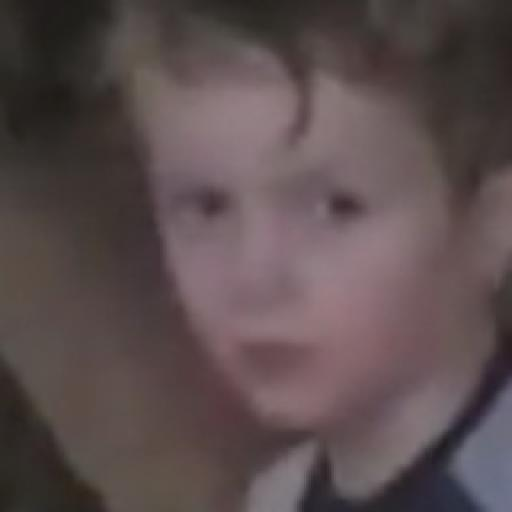Autism: (89, 0, 512, 455)
